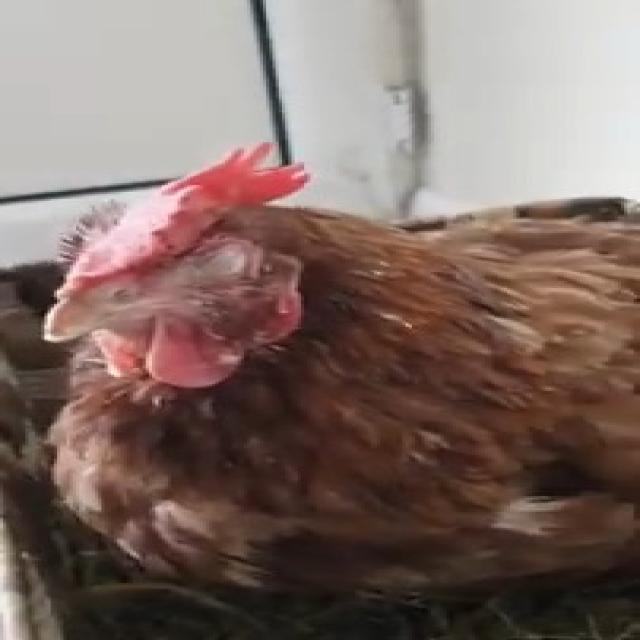sleeping chickens: (9, 160, 640, 615)
